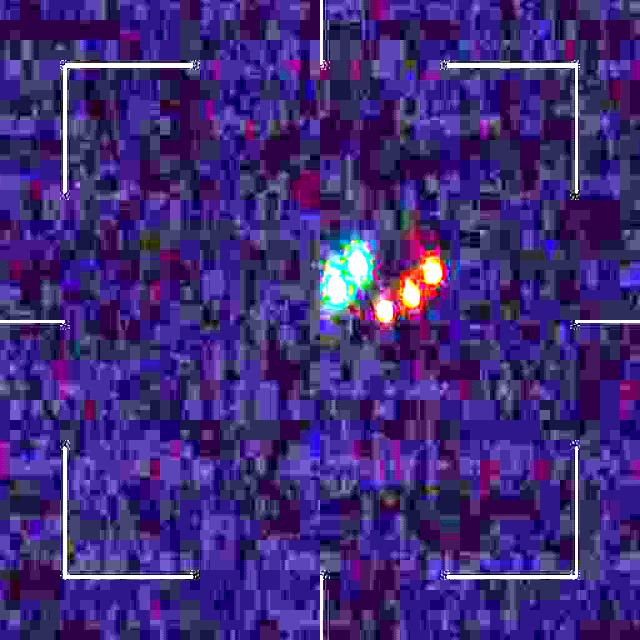bird: (325, 246, 445, 324)
